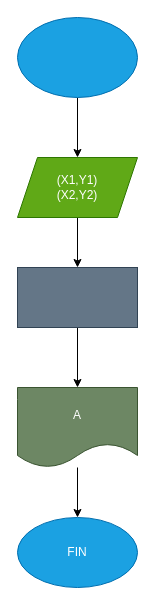
Image size: 155x605. Some labels were removed from this diagram. The shapes that lost their labels are listed below. From the top down, each one's box as (x1, y1, x2, y2) in pixels, then its label:
(16, 16, 138, 98): INICIO
(16, 266, 138, 328): (X1*X2) +(Y1*Y2)
